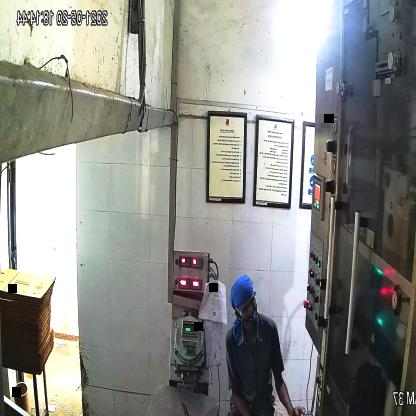goggles: (237, 292, 258, 320)
